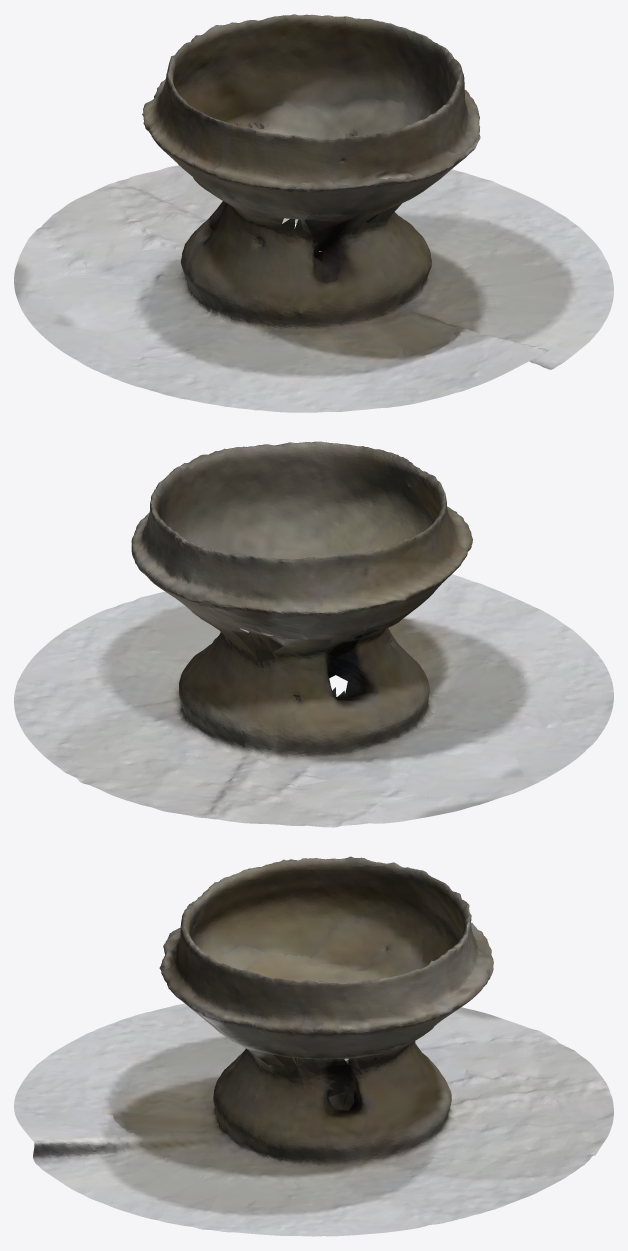
The model's file is suekitakatsuki.glb.
3 renders of one model, top to bottom at view 1: azimuth 30°, elevation 25°; view 2: azimuth 150°, elevation 25°; view 3: azimuth 270°, elevation 25°, orthographic. The views are drawn at different scales.
Parts seen in each view (by area): view 1: mesh; view 2: mesh; view 3: mesh.
Part boxes in pixels (left/top/right/bottom): mesh: left=14, top=14, right=613, bottom=412; mesh: left=14, top=441, right=613, bottom=827; mesh: left=14, top=856, right=613, bottom=1236.
Size of the model in its own units: 0.2141 by 0.0846 by 0.2215.
1 material, 1 textured.
